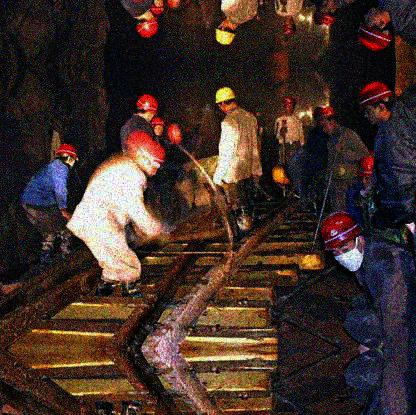helmet: (318, 213, 365, 271), (126, 132, 168, 178), (357, 7, 394, 51), (356, 81, 392, 125), (133, 12, 163, 41), (314, 107, 340, 135), (355, 152, 375, 188), (134, 95, 160, 121), (214, 88, 239, 112), (315, 1, 338, 27), (215, 19, 238, 43), (55, 144, 77, 169), (282, 17, 299, 35), (282, 96, 295, 114), (153, 116, 164, 137), (151, 1, 165, 17)
